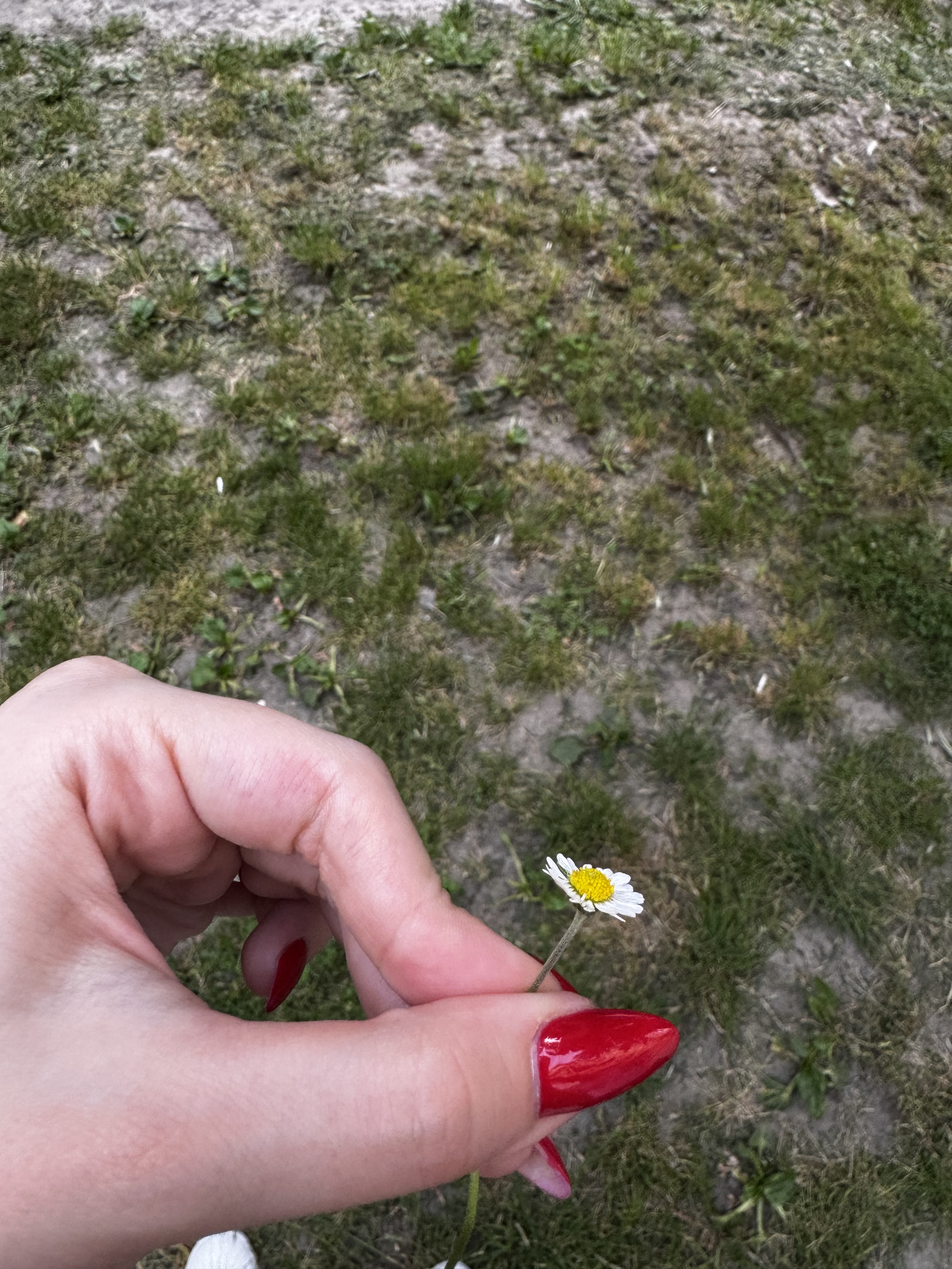daisy: (542, 844, 652, 928)
